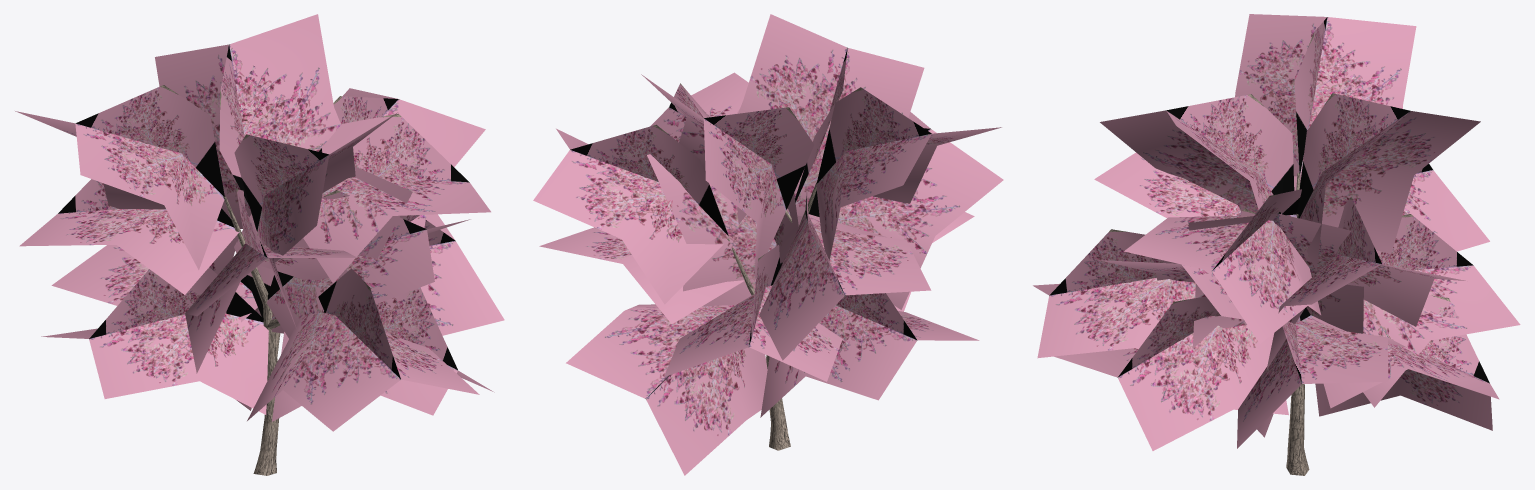
File: VEG0210050.fbx
3 renders of one model, left to right at view 1: azimuth 30°, elevation 25°; view 2: azimuth 150°, elevation 25°; view 3: azimuth 270°, elevation 25°, orthographic. The views are drawn at different scales.
Parts seen in each view (by area): view 1: smVEG0210050; view 2: smVEG0210050; view 3: smVEG0210050.
Boxes of the visible parts, x1,y1,x2,y2 form: smVEG0210050: (15,14,504,475); smVEG0210050: (533,14,1003,475); smVEG0210050: (1033,14,1520,475).
Size of the model in its own units: 719 by 637 by 713.
Materials: 1 (1 with a texture image).
